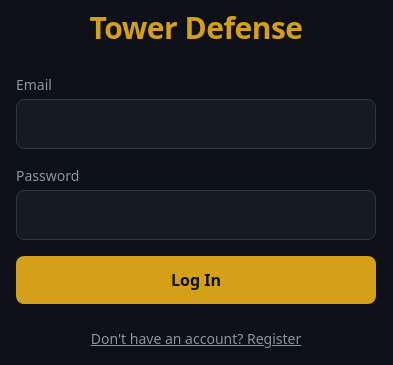
Test case: Login › disables the submit button while a login is in flight
This screenshot has width=393, height=365.
In the field labelled "Email": (196, 124) [16,99,376,149], type "alice@example.com"
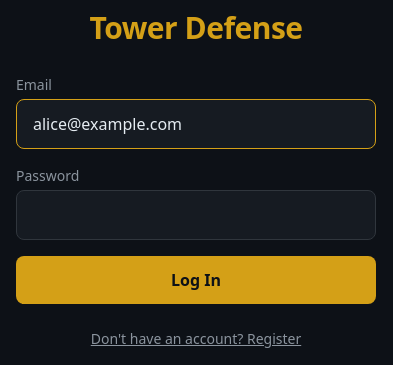
In the password field labelled "Password": (196, 215) [16,190,376,240], type "hunter2"
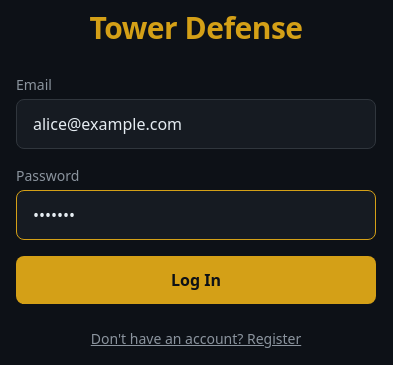
Click the button "Log In": (196, 280) [16,256,376,304]
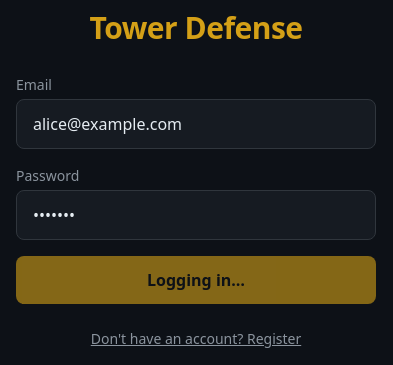
expect the button "Logging in…" is disabled: met, box [16,256,376,304]
